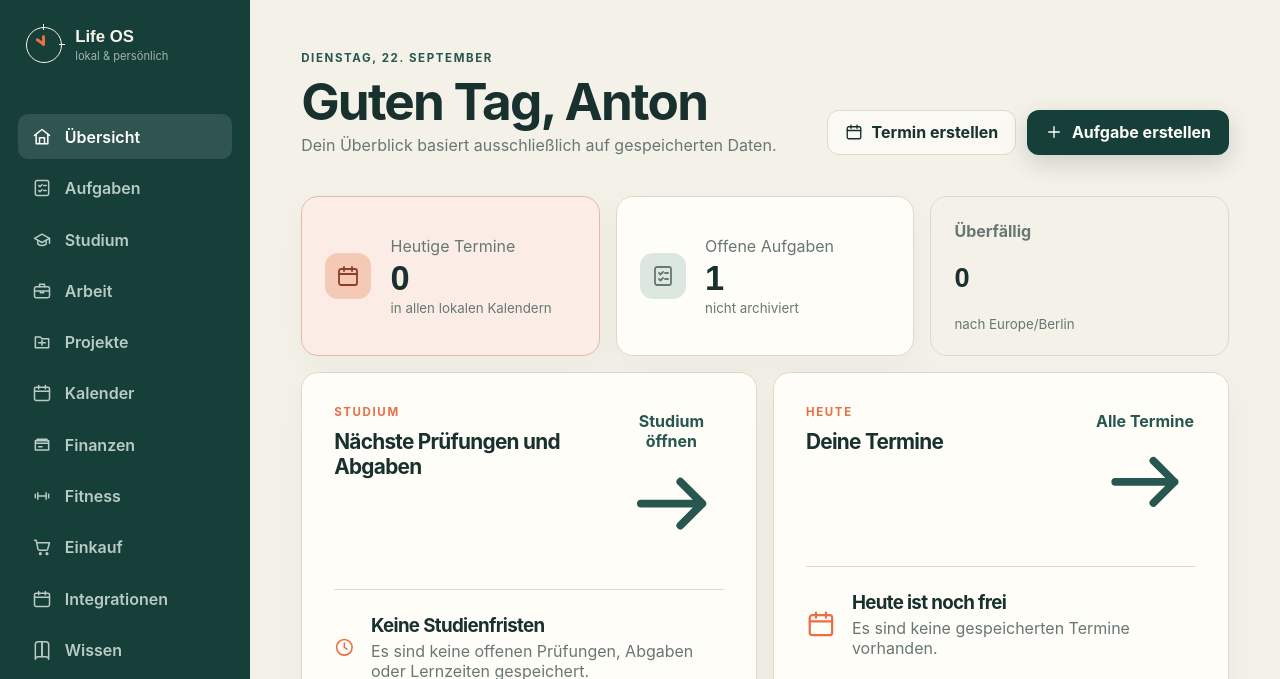
LifeOS-Weboberfläche › zeigt einen leeren Kalender mit klarer nächster Aktion
Expected: the heading "Guten Tag, Anton" is shown, [301,76,776,127]
Click the button "Kalender" at (125, 393), box [18,371,232,416]
(page scrolled)
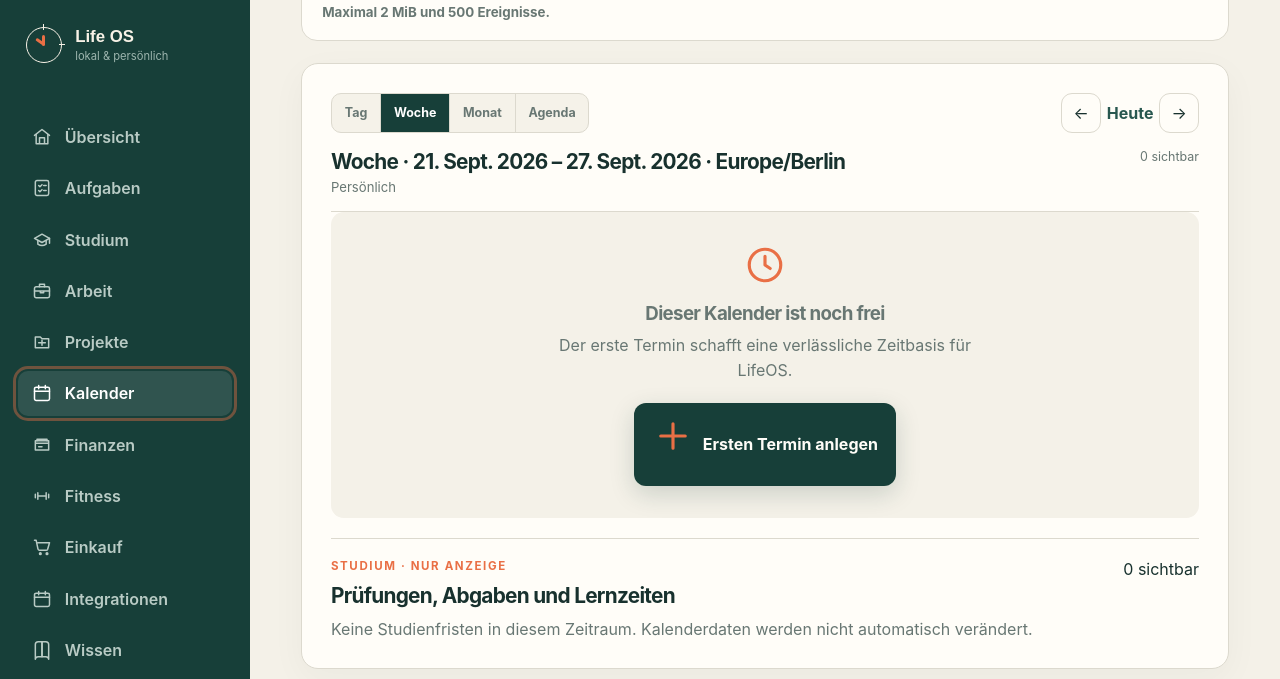
Expected: the heading "Dieser Kalender ist noch frei" is shown, [645,302,885,325]
Expected: the button "Ersten Termin anlegen" is enabled, [634,403,896,486]
